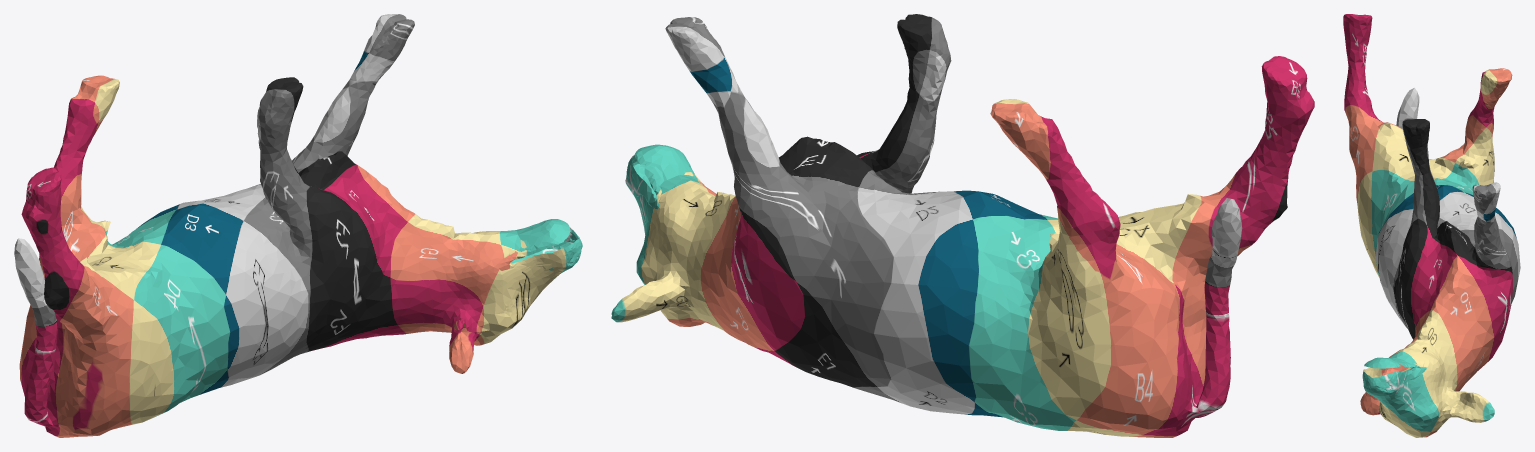
File: fox_01-cow_03.obj
3 renders of one model, left to right at view 1: azimuth 30°, elevation 25°; view 2: azimuth 150°, elevation 25°; view 3: azimuth 270°, elevation 25°, orthographic. The views are drawn at different scales.
Visible parts, largest first — view 1: fox_01-cow_03_export; view 2: fox_01-cow_03_export; view 3: fox_01-cow_03_export.
Boxes of the visible parts, box(x1,y1,x2,y2) form: fox_01-cow_03_export: box(14, 14, 582, 437); fox_01-cow_03_export: box(611, 14, 1314, 437); fox_01-cow_03_export: box(1343, 14, 1520, 437).
Bounding box in the file's own units: 1 × 0.5262 × 0.3449.
